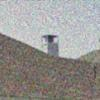chimneys: (41, 33, 59, 60)
